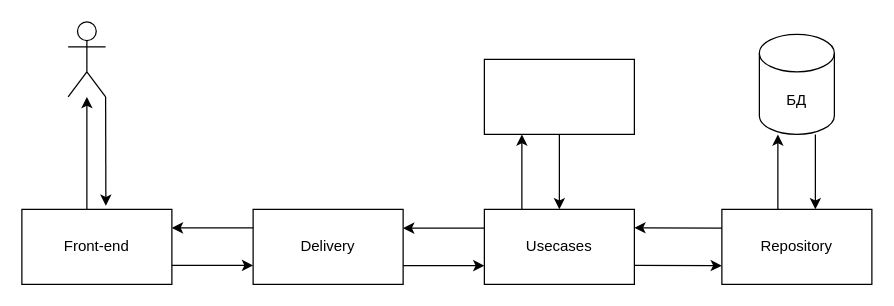
Some shapes in this 894 by 306 pixel diagram are drawn without their labels. Here are the shapes that lost their labels. From the top down, the centre of each, then its label:
the point at 86,59: пользователь
the point at 558,96: Helpers
